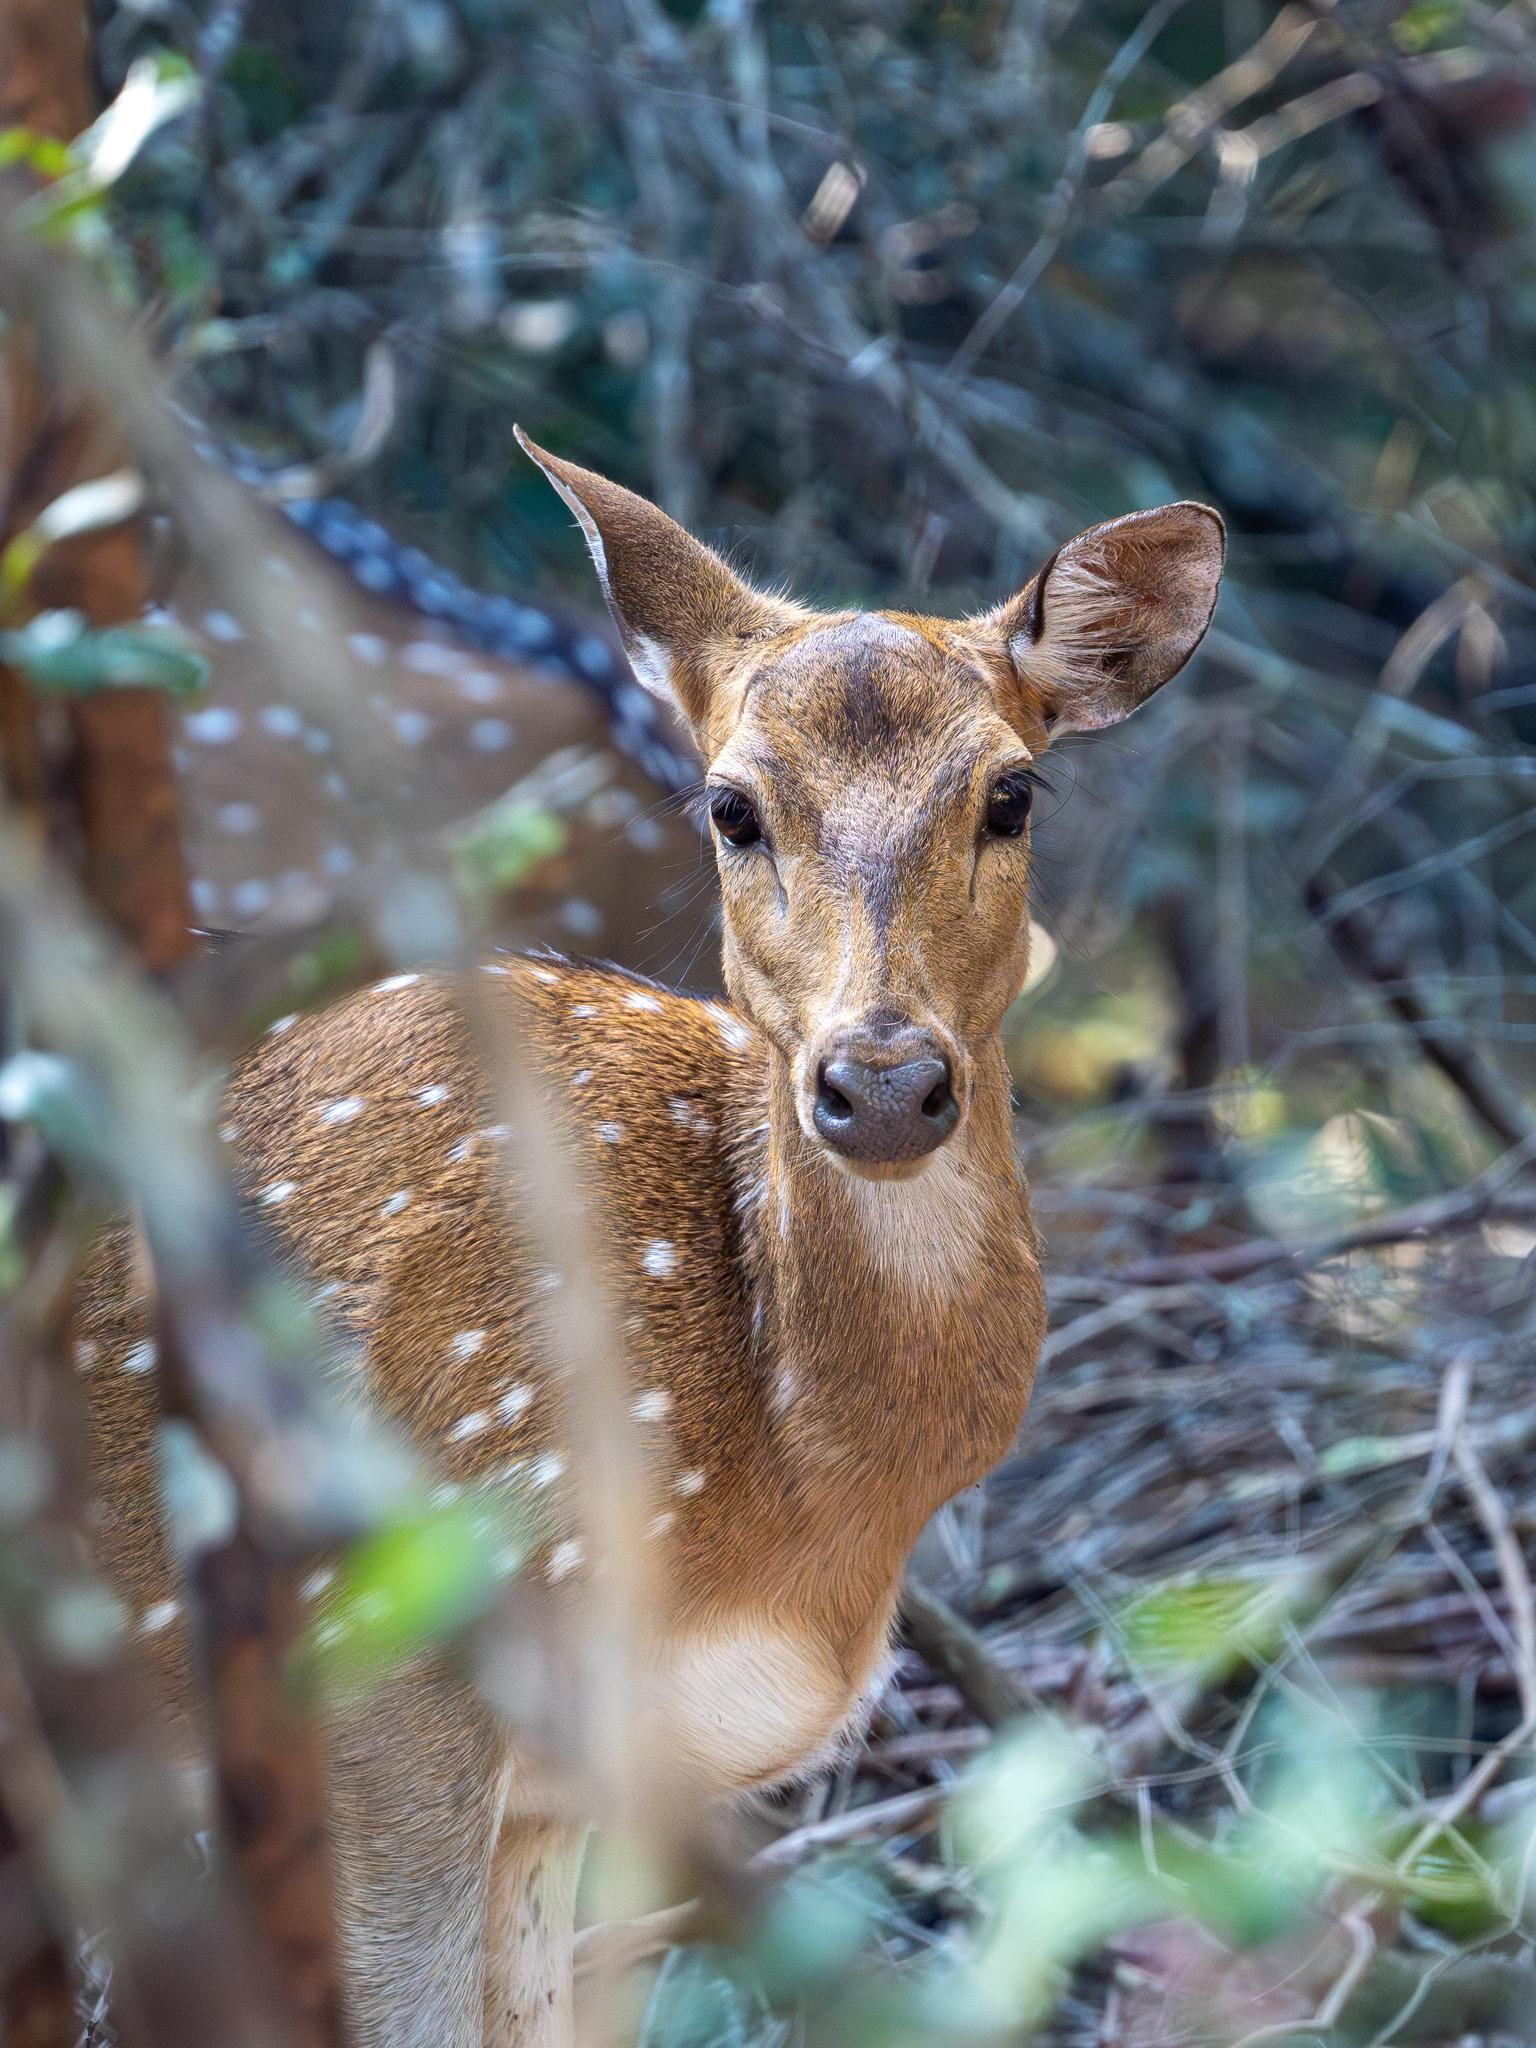Deer: (221, 429, 1221, 2046)
